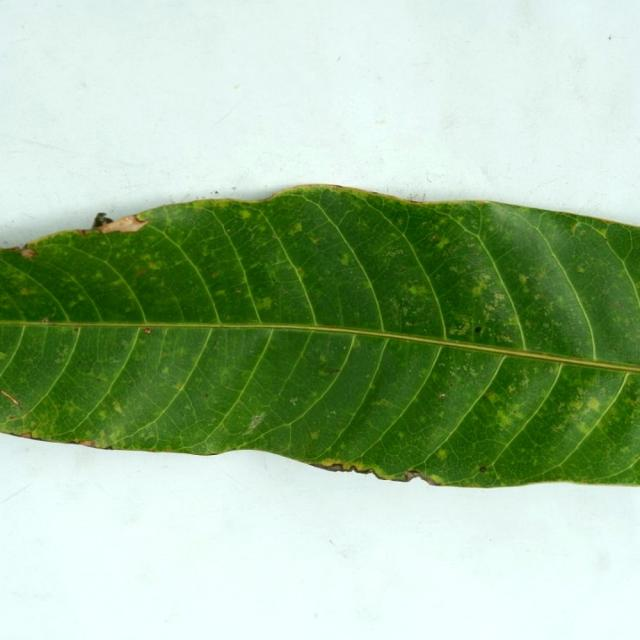Mango: (0, 186, 639, 486)
Powdery_Mildew: (447, 286, 522, 345), (389, 282, 440, 330), (604, 221, 636, 269), (475, 288, 512, 320), (494, 407, 519, 426), (245, 413, 266, 433), (68, 295, 90, 310), (449, 321, 471, 336), (317, 365, 344, 377), (235, 205, 254, 222), (54, 344, 71, 363), (254, 296, 274, 311), (406, 283, 429, 296), (425, 473, 448, 485), (470, 281, 487, 297), (385, 247, 406, 258), (585, 397, 601, 411), (435, 237, 452, 250), (576, 421, 593, 434), (288, 221, 303, 235), (112, 399, 124, 415), (371, 398, 391, 407), (134, 268, 150, 279), (337, 253, 350, 266), (625, 395, 639, 407), (484, 391, 499, 402), (491, 292, 506, 303), (19, 287, 35, 296), (96, 409, 109, 420), (351, 336, 362, 349), (436, 449, 447, 461), (622, 445, 635, 455), (518, 273, 528, 285), (572, 399, 584, 409), (147, 261, 160, 270), (571, 221, 580, 234), (573, 353, 587, 361), (309, 430, 320, 440), (141, 253, 153, 262), (318, 353, 328, 363), (296, 267, 305, 278), (214, 290, 226, 297), (576, 265, 586, 273), (290, 397, 300, 405), (174, 383, 185, 390), (160, 366, 169, 374), (0, 351, 8, 360), (397, 431, 405, 439), (633, 398, 640, 407), (474, 326, 482, 333), (354, 311, 361, 318), (259, 225, 266, 232), (329, 410, 337, 416), (42, 317, 50, 323), (211, 272, 218, 278), (202, 392, 209, 398), (431, 234, 438, 240), (479, 466, 486, 472), (73, 327, 80, 333), (144, 328, 151, 334), (617, 301, 623, 307), (405, 321, 412, 326), (272, 234, 278, 239), (235, 288, 241, 293), (251, 318, 257, 322), (226, 229, 231, 233), (214, 191, 218, 194)
